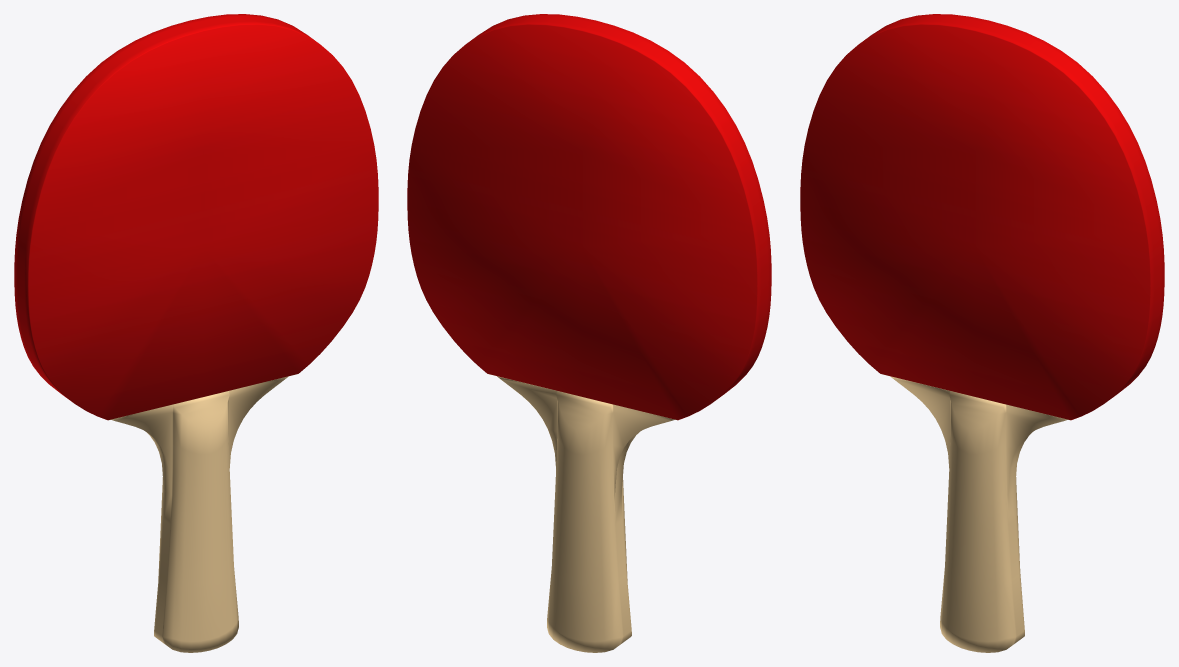
The model's file is _PingPongMasters_redpaddle.fbx.
3 renders of one model, left to right at view 1: azimuth 30°, elevation 25°; view 2: azimuth 150°, elevation 25°; view 3: azimuth 330°, elevation 25°, orthographic.
Visible parts, largest first — view 1: redpaddle; view 2: redpaddle; view 3: redpaddle.
Part boxes in pixels (left/top/right/bottom): redpaddle: left=14, top=14, right=378, bottom=652; redpaddle: left=407, top=14, right=771, bottom=652; redpaddle: left=800, top=14, right=1164, bottom=652.
Bounding box in the file's own units: 0.0741 × 0.0101 × 0.1242.
Materials: 2 (1 with a texture image).
